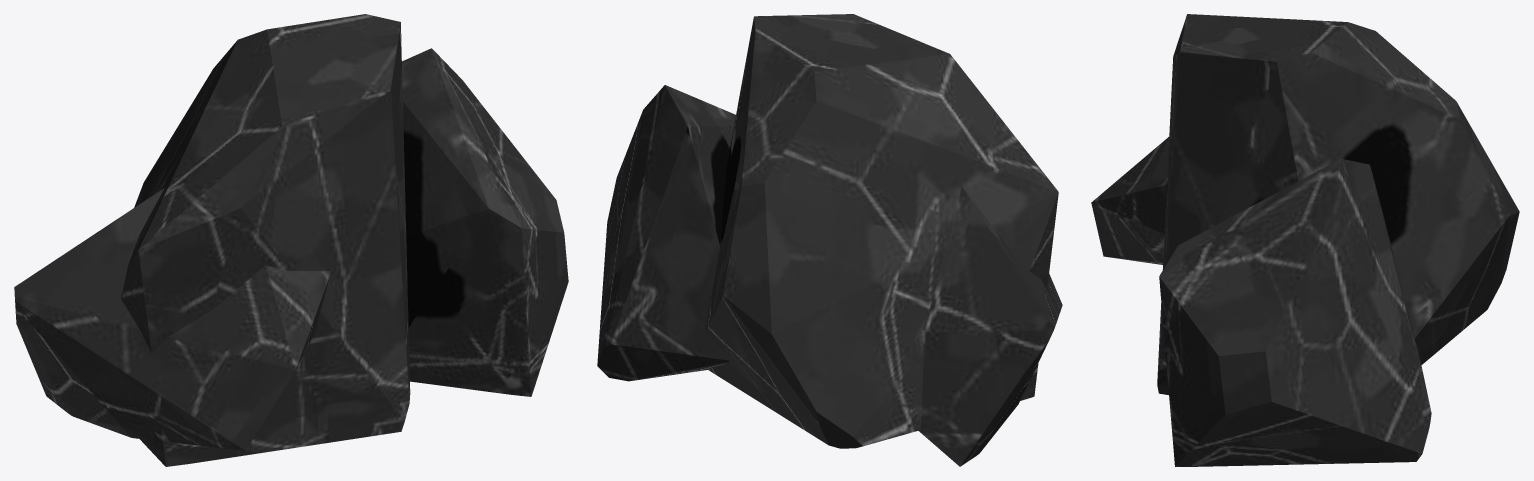
The model's file is res_coal_low.glb.
The picture shows the model from 3 angles, left to right: view 1: azimuth 30°, elevation 25°; view 2: azimuth 150°, elevation 25°; view 3: azimuth 270°, elevation 25°; orthographic projection. The views are drawn at different scales.
Visible parts, largest first — view 1: res_coal_low; view 2: res_coal_low; view 3: res_coal_low.
Boxes of the visible parts, x1,y1,x2,y2 form: res_coal_low: [14, 14, 568, 466]; res_coal_low: [597, 14, 1062, 466]; res_coal_low: [1091, 14, 1519, 466].
Bounding box in the file's own units: 0.86 × 0.5792 × 0.6164.
Materials: 1 (1 with a texture image).
